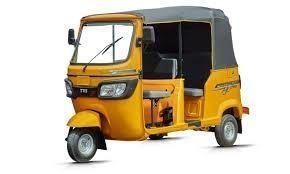keke: (66, 4, 244, 166)
